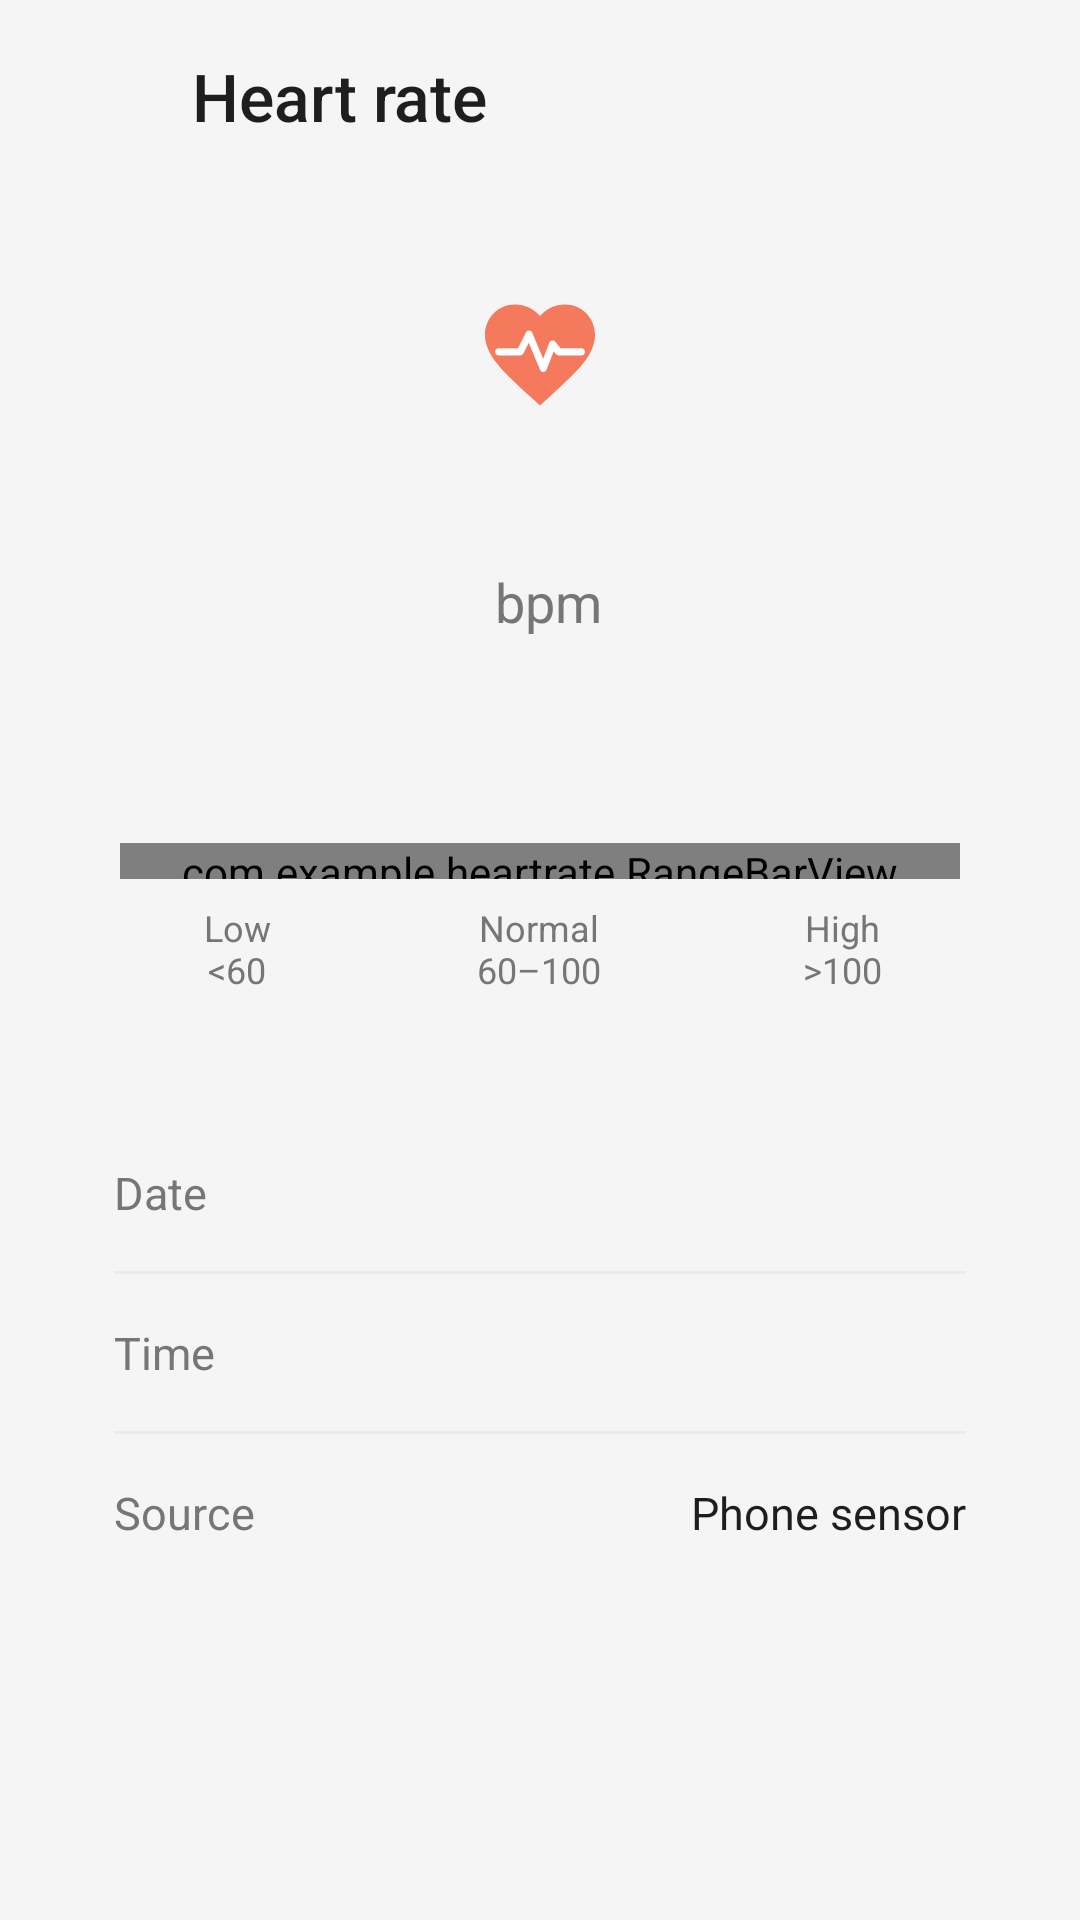

Icon bounding boxes for this 1080×1920 phone screenshot, format (x1, y1, x2, y2):
heart pulse: (485, 304, 595, 405)
